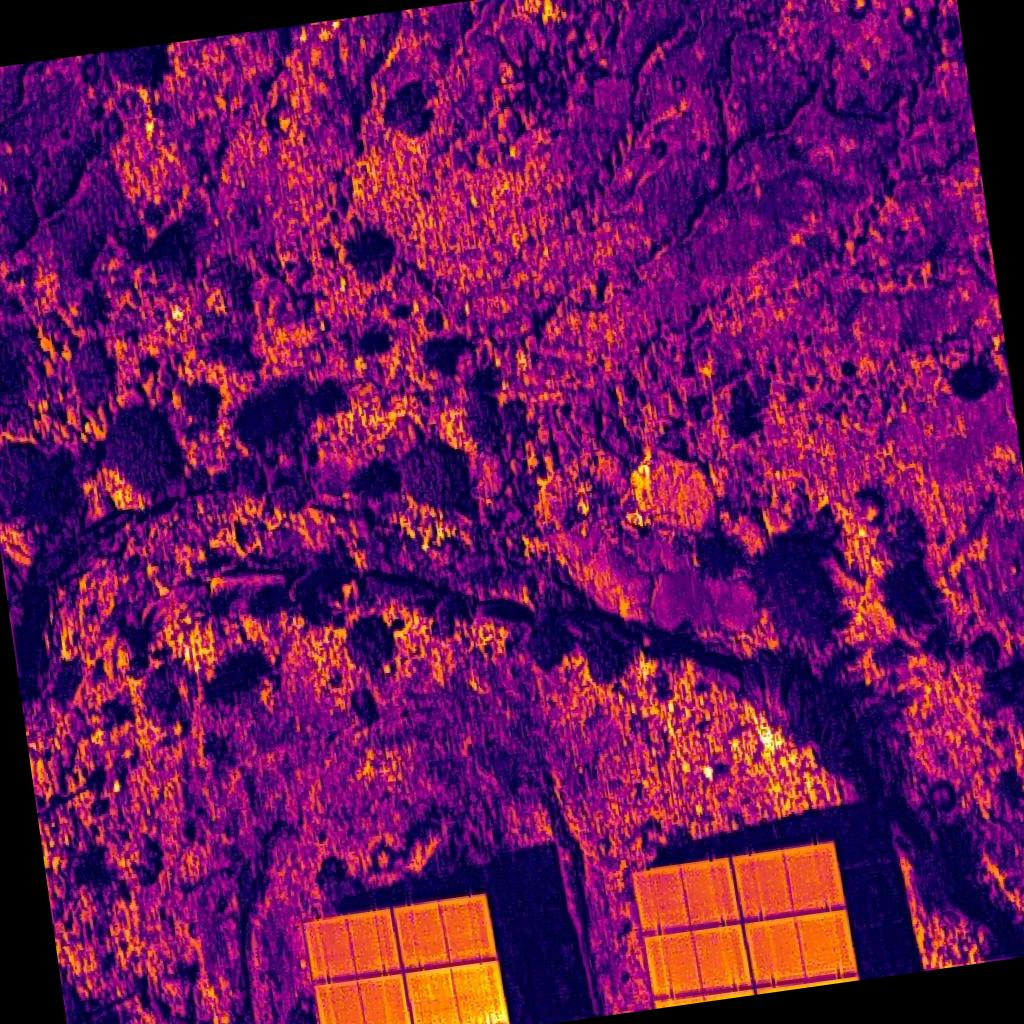panel: (744, 908, 857, 987), (407, 960, 508, 1024)
